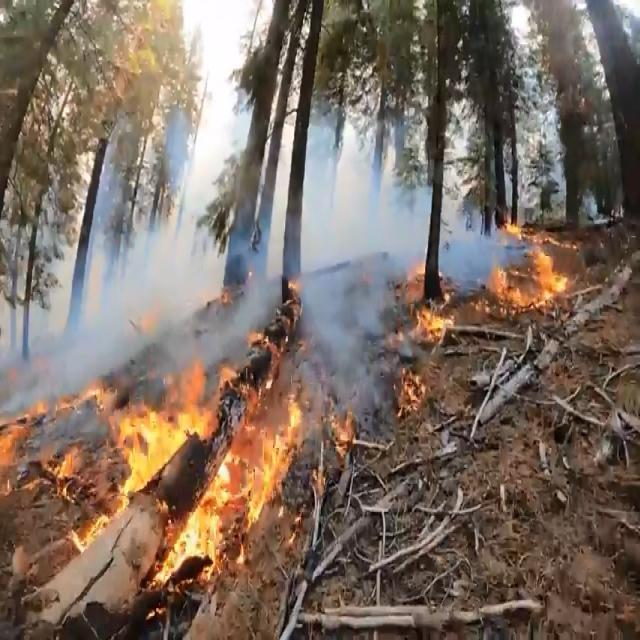Fire: (1, 214, 568, 584)
